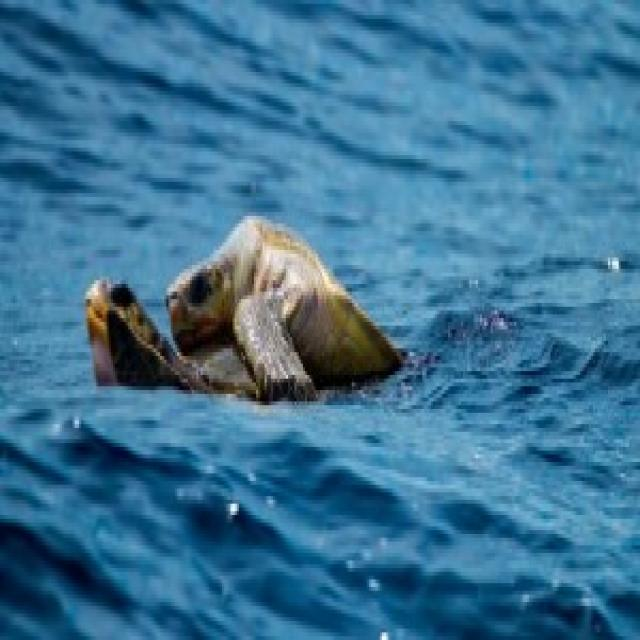Sea turtle: (165, 212, 480, 395)
